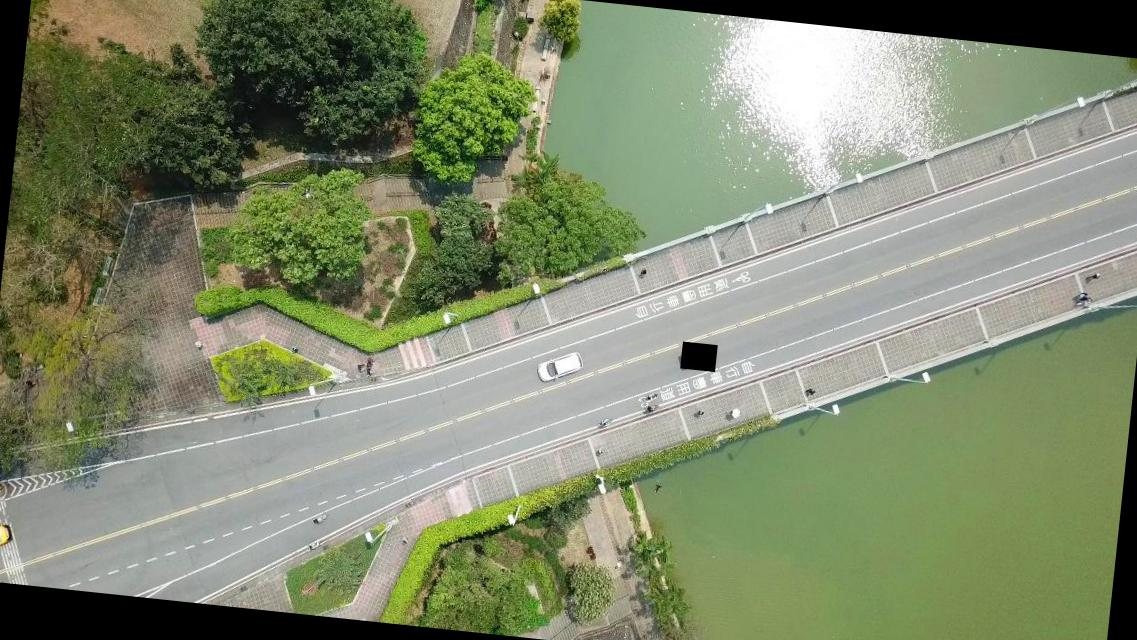vehicle: (536, 348, 584, 386), (0, 521, 12, 559)
